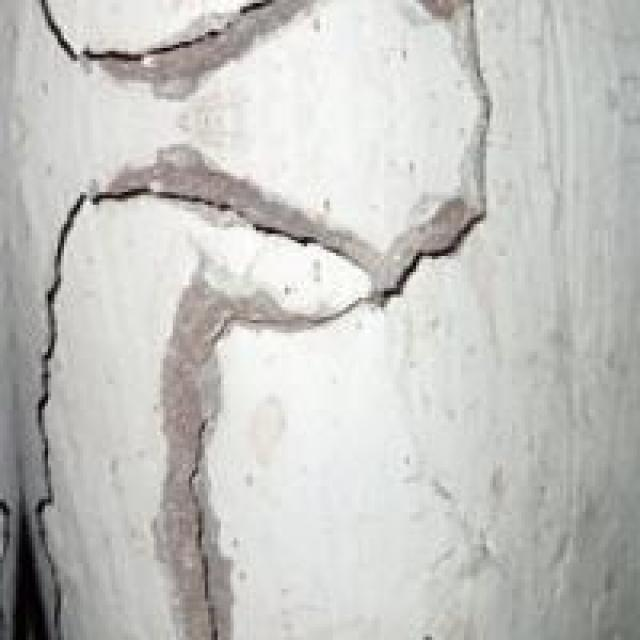crack: (19, 0, 499, 637)
